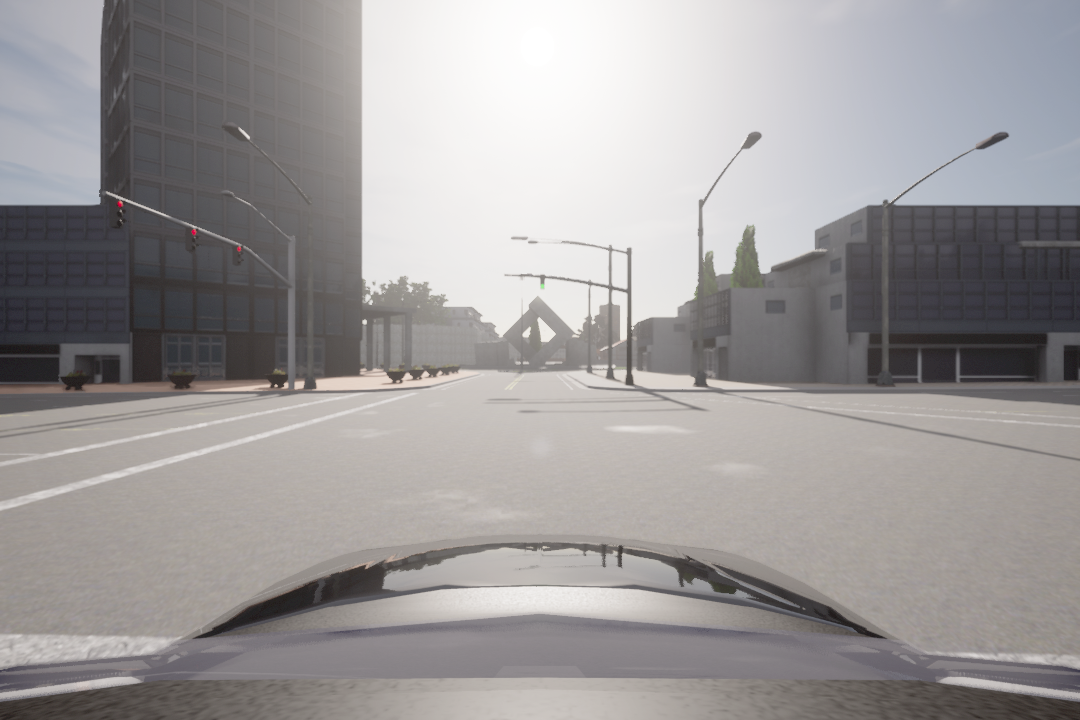TrafficLight: (111, 197, 127, 231), (184, 226, 199, 256), (230, 244, 244, 268), (534, 273, 547, 292)
